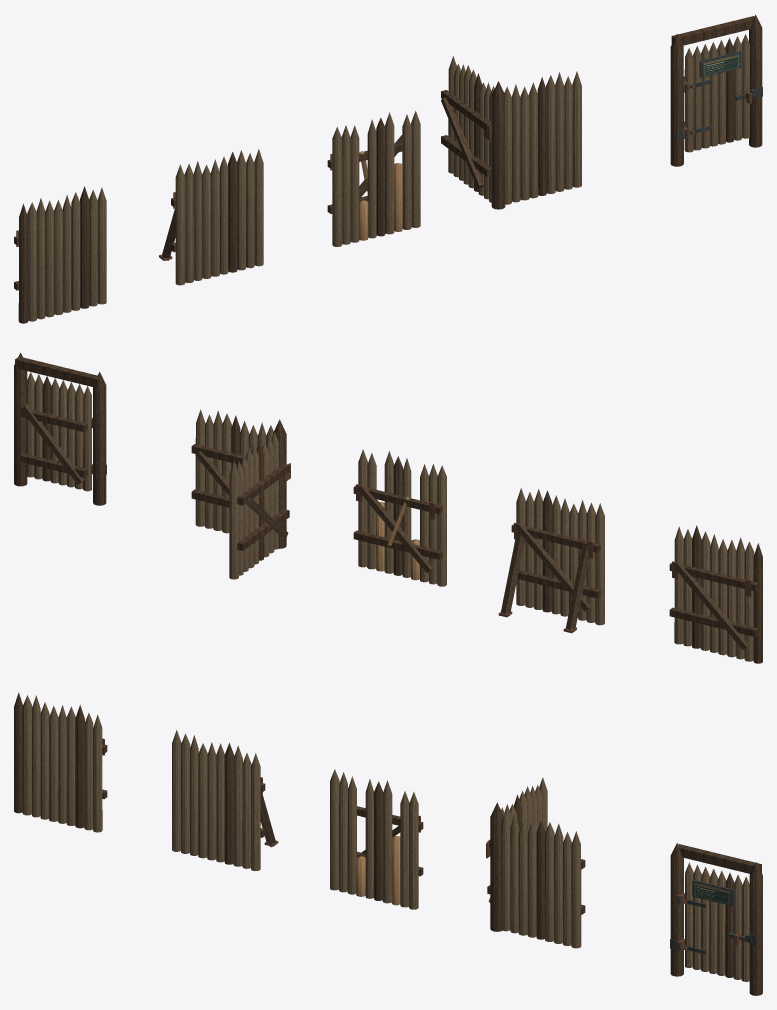
The model's file is PZ_Palisade_Modular_Catalog.glb.
3 views of the same model, one above another, from view 1: azimuth 30°, elevation 25°; view 2: azimuth 150°, elevation 25°; view 3: azimuth 330°, elevation 25° (orthographic).
Visible parts, largest first — view 1: CATALOG_CORNER__CORNER_Central_Heavy_Post, CATALOG_GATE__GATE_FRAME__Foundation_Post_1, CATALOG_GATE__GATE_FRAME__Foundation_Post_2, CATALOG_REINFORCED__FENCE_Log_01, CATALOG_DAMAGED__FENCE_Log_01, CATALOG_STRAIGHT__FENCE_Log_08, CATALOG_DAMAGED__FENCE_Log_07, CATALOG_REINFORCED__FENCE_Log_07, CATALOG_STRAIGHT__FENCE_Log_01, CATALOG_CORNER__CORNER_X_Log_06, CATALOG_DAMAGED__FENCE_Log_06, CATALOG_STRAIGHT__FENCE_Log_07 (+41 smaller); view 2: CATALOG_GATE__GATE_FRAME__Foundation_Post_1, CATALOG_GATE__GATE_FRAME__Foundation_Post_2, CATALOG_GATE__GATE_FRAME__Top_Lintel, CATALOG_CORNER__CORNER_Y_Log_09, CATALOG_DAMAGED__FENCE_Log_01, CATALOG_REINFORCED__FENCE_Log_01, CATALOG_STRAIGHT__FENCE_Log_01, CATALOG_STRAIGHT__FENCE_Rear_DiagonalBrace, CATALOG_DAMAGED__FENCE_Rear_DiagonalBrace, CATALOG_STRAIGHT__FENCE_Log_02, CATALOG_REINFORCED__FENCE_Rear_DiagonalBrace, CATALOG_DAMAGED__FENCE_Log_10 (+50 smaller); view 3: CATALOG_GATE__GATE_FRAME__Foundation_Post_2, CATALOG_GATE__GATE_FRAME__Foundation_Post_1, CATALOG_CORNER__CORNER_Central_Heavy_Post, CATALOG_DAMAGED__FENCE_Log_07, CATALOG_CORNER__CORNER_X_Log_09, CATALOG_STRAIGHT__FENCE_Log_08, CATALOG_REINFORCED__FENCE_Log_07, CATALOG_STRAIGHT__FENCE_Log_02, CATALOG_REINFORCED__FENCE_Log_08, CATALOG_STRAIGHT__FENCE_Log_07, CATALOG_CORNER__CORNER_X_Log_01, CATALOG_DAMAGED__FENCE_Log_10 (+39 smaller).
Boxes of the visible parts, <box> form: CATALOG_CORNER__CORNER_Central_Heavy_Post: <box>491,81,505,209</box>; CATALOG_GATE__GATE_FRAME__Foundation_Post_1: <box>670,34,683,166</box>; CATALOG_GATE__GATE_FRAME__Foundation_Post_2: <box>749,14,762,147</box>; CATALOG_REINFORCED__FENCE_Log_01: <box>175,164,185,285</box>; CATALOG_DAMAGED__FENCE_Log_01: <box>332,127,342,246</box>; CATALOG_STRAIGHT__FENCE_Log_08: <box>80,186,89,308</box>; CATALOG_DAMAGED__FENCE_Log_07: <box>385,112,394,234</box>; CATALOG_REINFORCED__FENCE_Log_07: <box>228,152,237,272</box>; CATALOG_STRAIGHT__FENCE_Log_01: <box>18,203,28,323</box>; CATALOG_CORNER__CORNER_X_Log_06: <box>546,75,555,193</box>; CATALOG_DAMAGED__FENCE_Log_06: <box>376,117,385,236</box>; CATALOG_STRAIGHT__FENCE_Log_07: <box>71,192,80,310</box>; CATALOG_GATE__GATE_FRAME__Foundation_Post_1: <box>93,372,106,505</box>; CATALOG_GATE__GATE_FRAME__Foundation_Post_2: <box>14,352,27,486</box>; CATALOG_GATE__GATE_FRAME__Top_Lintel: <box>15,357,100,388</box>; CATALOG_CORNER__CORNER_Y_Log_09: <box>229,461,238,579</box>; CATALOG_DAMAGED__FENCE_Log_01: <box>437,465,446,586</box>; CATALOG_REINFORCED__FENCE_Log_01: <box>595,503,604,625</box>; CATALOG_STRAIGHT__FENCE_Log_01: <box>753,543,762,663</box>; CATALOG_STRAIGHT__FENCE_Rear_DiagonalBrace: <box>673,561,749,649</box>; CATALOG_DAMAGED__FENCE_Rear_DiagonalBrace: <box>357,483,433,572</box>; CATALOG_STRAIGHT__FENCE_Log_02: <box>744,541,754,661</box>; CATALOG_REINFORCED__FENCE_Rear_DiagonalBrace: <box>515,522,591,611</box>; CATALOG_DAMAGED__FENCE_Log_10: <box>358,449,367,567</box>; CATALOG_GATE__GATE_FRAME__Foundation_Post_2: <box>749,862,762,995</box>; CATALOG_GATE__GATE_FRAME__Foundation_Post_1: <box>670,843,683,976</box>; CATALOG_CORNER__CORNER_Central_Heavy_Post: <box>490,802,503,931</box>; CATALOG_DAMAGED__FENCE_Log_07: <box>382,780,392,903</box>; CATALOG_CORNER__CORNER_X_Log_09: <box>571,831,581,948</box>; CATALOG_STRAIGHT__FENCE_Log_08: <box>75,705,84,828</box>; CATALOG_REINFORCED__FENCE_Log_07: <box>224,743,234,864</box>; CATALOG_STRAIGHT__FENCE_Log_02: <box>22,695,32,815</box>; CATALOG_REINFORCED__FENCE_Log_08: <box>233,745,242,866</box>; CATALOG_STRAIGHT__FENCE_Log_07: <box>66,706,75,825</box>; CATALOG_CORNER__CORNER_X_Log_01: <box>501,812,510,931</box>; CATALOG_DAMAGED__FENCE_Log_10: <box>409,791,418,909</box>.
Size of the model in its own units: 17.03 by 2.86 by 2.21.
6 materials, 6 textured.
